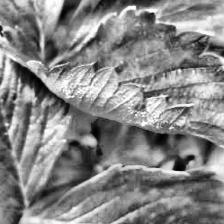Powdery Mildew Leaf: (0, 6, 224, 158)
